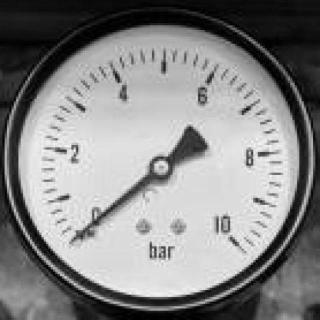gauge: (0, 0, 320, 320), (61, 204, 110, 254), (205, 212, 252, 262), (148, 154, 173, 180), (66, 230, 83, 250)
